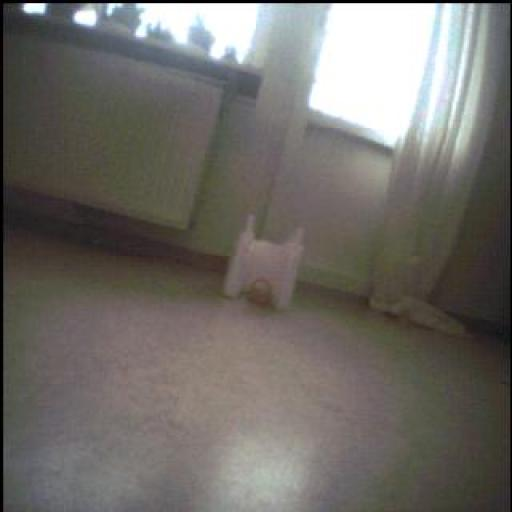Basket: (244, 273, 277, 311)
